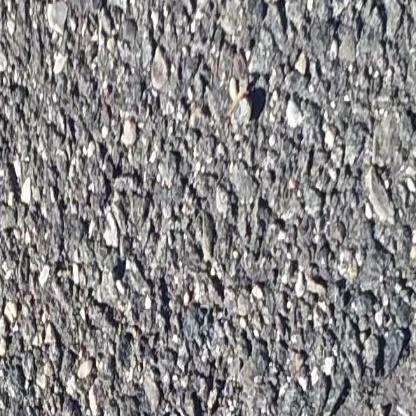Cracks: (197, 345, 416, 416)
